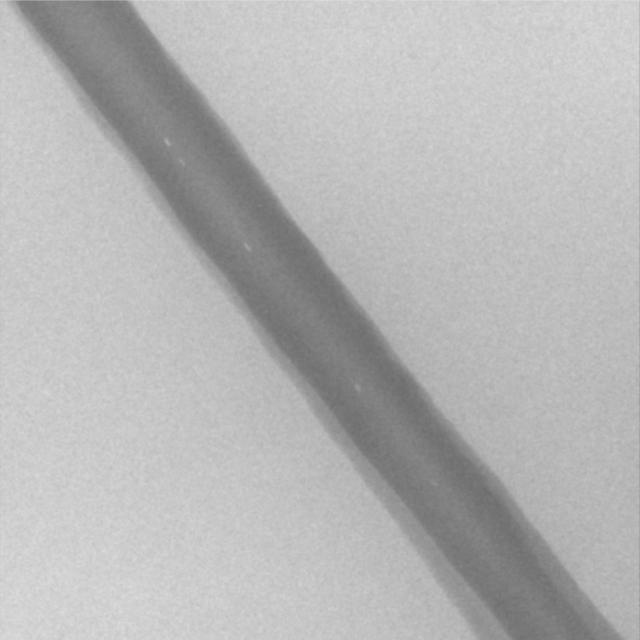air hole: (163, 135, 173, 149), (352, 382, 362, 394), (243, 243, 252, 253), (177, 157, 186, 167)
